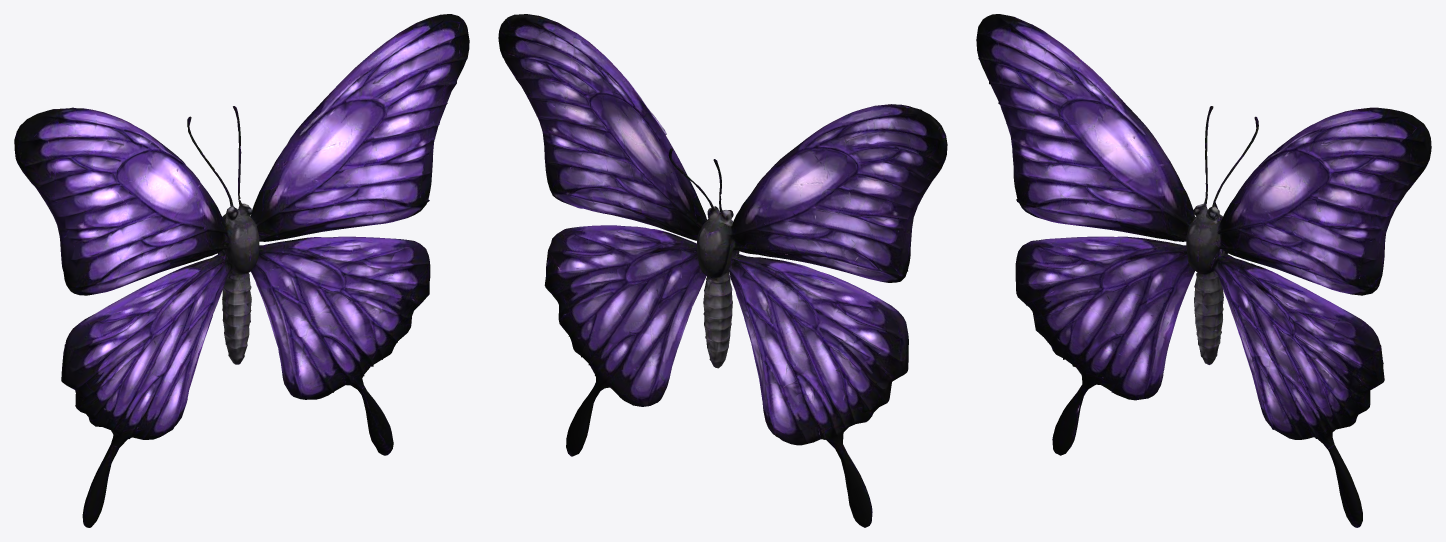
3 views of the same model, side by side, from view 1: azimuth 30°, elevation 25°; view 2: azimuth 150°, elevation 25°; view 3: azimuth 330°, elevation 25° (orthographic).
Size of the model in its own units: 1.9 by 1.73 by 0.313.
Materials: 1 (1 with a texture image).
